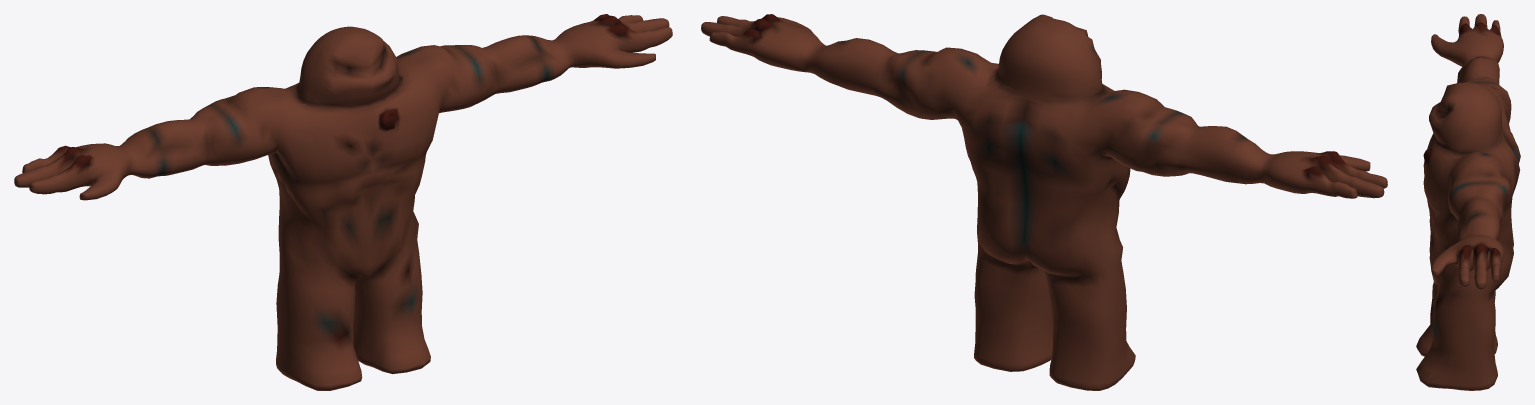
File: geoBody.fbx
3 renders of one model, left to right at view 1: azimuth 30°, elevation 25°; view 2: azimuth 150°, elevation 25°; view 3: azimuth 270°, elevation 25°, orthographic. The views are drawn at different scales.
Parts seen in each view (by area): view 1: geoBasemesh; view 2: geoBasemesh; view 3: geoBasemesh.
Part boxes in pixels (x1=…): geoBasemesh: x1=14, y1=14, x2=672, y2=390; geoBasemesh: x1=701, y1=14, x2=1387, y2=390; geoBasemesh: x1=1416, y1=14, x2=1520, y2=390.
Bounding box in the file's own units: 582 × 281 × 95.78.
